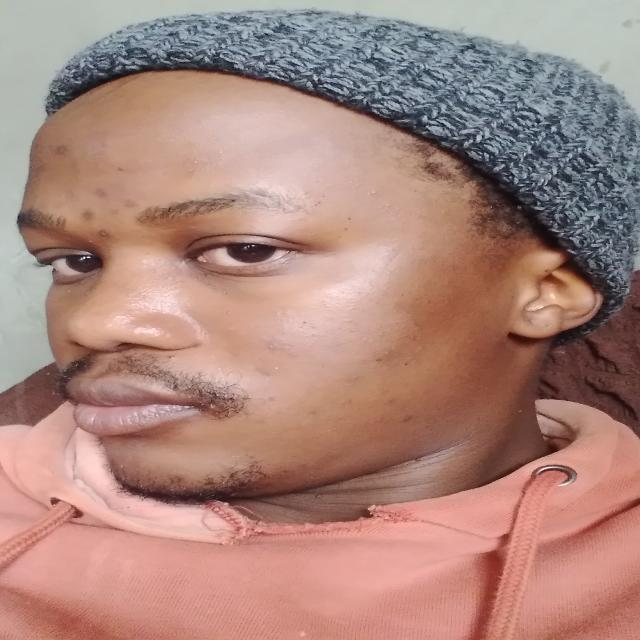acne: (105, 198, 140, 216), (76, 205, 100, 223), (396, 412, 418, 428), (52, 142, 76, 156), (264, 340, 282, 354), (93, 228, 113, 240), (32, 140, 49, 152), (92, 187, 110, 198)
dark circle: (178, 258, 336, 302)
